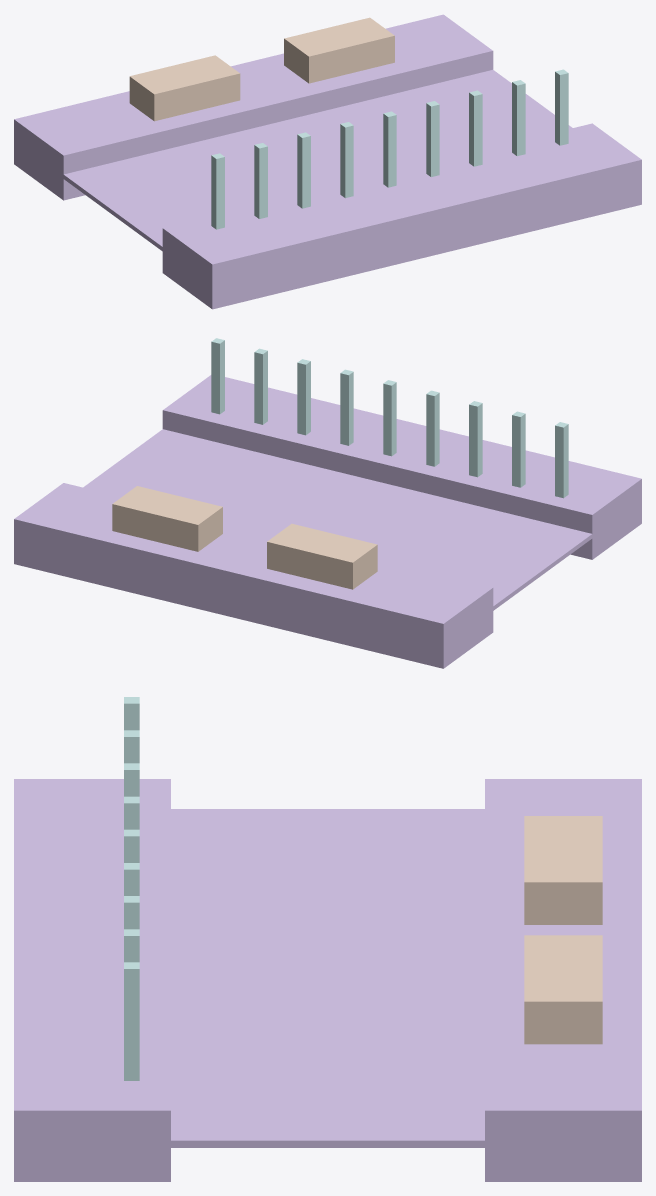
File: sea.glb
The picture shows the model from 3 angles, top to bottom: view 1: azimuth 30°, elevation 25°; view 2: azimuth 150°, elevation 25°; view 3: azimuth 270°, elevation 25°; orthographic projection. The views are drawn at different scales.
Parts seen in each view (by area): view 1: Box001, Box003, Box002, Box004 (×9), Box014, Box013; view 2: Box002, Box003, Box001, Box004 (×9), Box013, Box014; view 3: Box003, Box001, Box002, Box013, Box014, Box004.
Boxes of the visible parts, x1,y1,x2,y2 form: Box001: (162, 123, 641, 309); Box003: (38, 70, 572, 268); Box002: (14, 14, 493, 200); Box004 (×9): (211, 69, 568, 229); Box014: (129, 55, 240, 121); Box013: (284, 17, 394, 83); Box002: (14, 483, 493, 668); Box003: (83, 429, 617, 628); Box001: (162, 375, 641, 559); Box004 (×9): (211, 338, 568, 498); Box013: (112, 486, 222, 551); Box014: (267, 523, 377, 589); Box003: (92, 809, 563, 1147); Box001: (14, 779, 170, 1181); Box002: (485, 779, 641, 1181); Box013: (524, 935, 602, 1044); Box014: (524, 816, 602, 924); Box004: (124, 962, 139, 1080).
Size of the model in its own units: 50 by 12.86 by 40.
